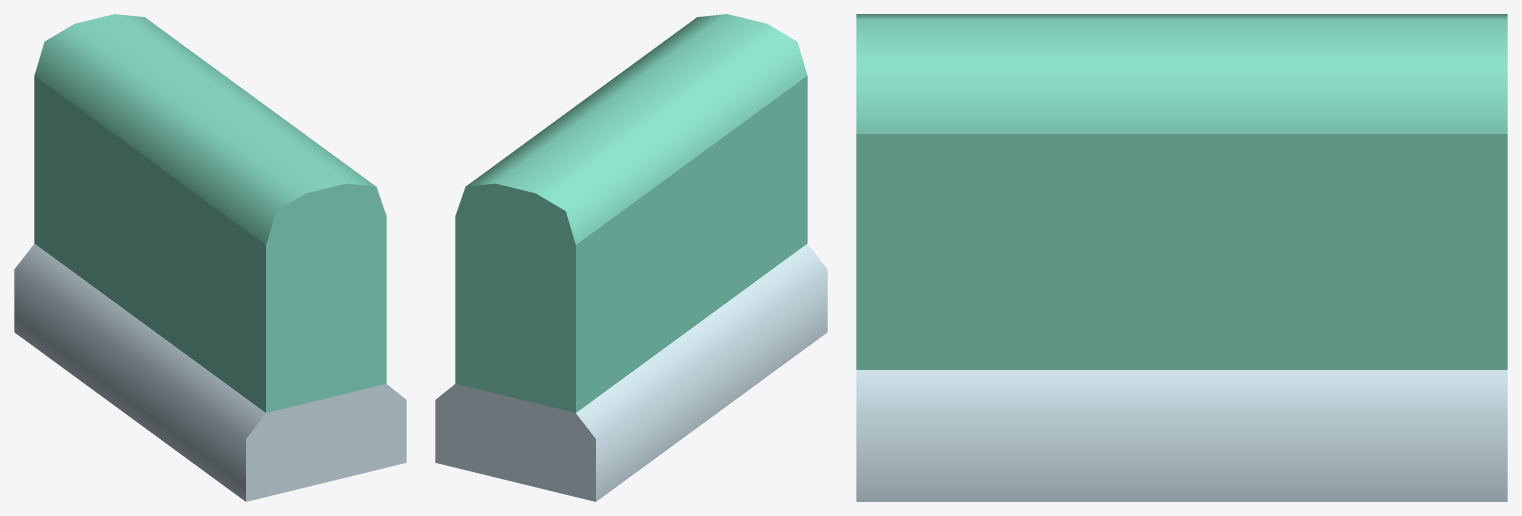
The picture shows the model from 3 angles, left to right: view 1: azimuth 30°, elevation 25°; view 2: azimuth 150°, elevation 25°; view 3: azimuth 270°, elevation 25°; orthographic projection. The views are drawn at different scales.
Visible parts, largest first — view 1: hedgeLarge; view 2: hedgeLarge; view 3: hedgeLarge.
Boxes of the visible parts, x1=… form: hedgeLarge: x1=14, y1=14, x2=406, y2=501; hedgeLarge: x1=435, y1=14, x2=827, y2=501; hedgeLarge: x1=856, y1=14, x2=1507, y2=501.
Bounding box in the file's own units: 0.4 × 0.7 × 1.
